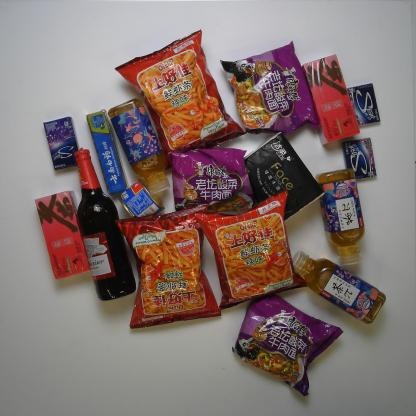Alcohol: (72, 147, 138, 302)
Canned Food: (117, 180, 166, 218)
Drink: (291, 248, 389, 326), (107, 96, 172, 196), (315, 166, 367, 267)
Gum: (43, 115, 79, 172), (341, 136, 378, 180), (348, 82, 382, 127)
Instant Drink: (302, 51, 362, 147), (34, 189, 90, 281)
Instant Noodles: (231, 296, 346, 398), (219, 38, 322, 137), (167, 146, 254, 214)
Personal Hygiene: (85, 107, 131, 196)
Puffed Food: (112, 26, 249, 168), (113, 202, 222, 331), (194, 188, 307, 310)
Tissue: (244, 131, 326, 223)
